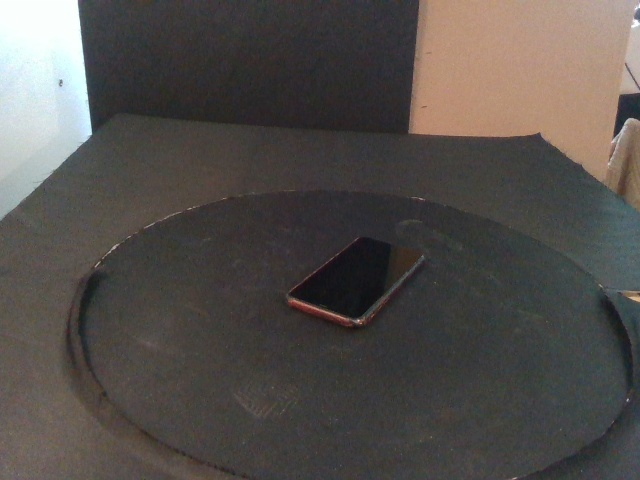phone: (285, 235, 428, 329)
